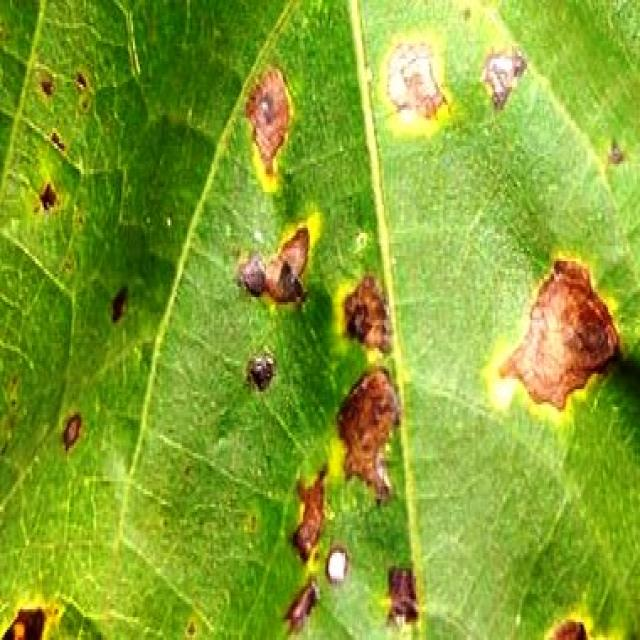Bacterial Blight: (227, 48, 434, 610)
